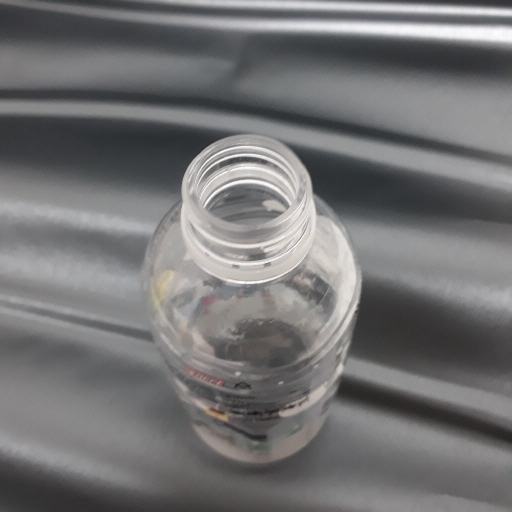Plastic_0: (137, 134, 364, 470)
